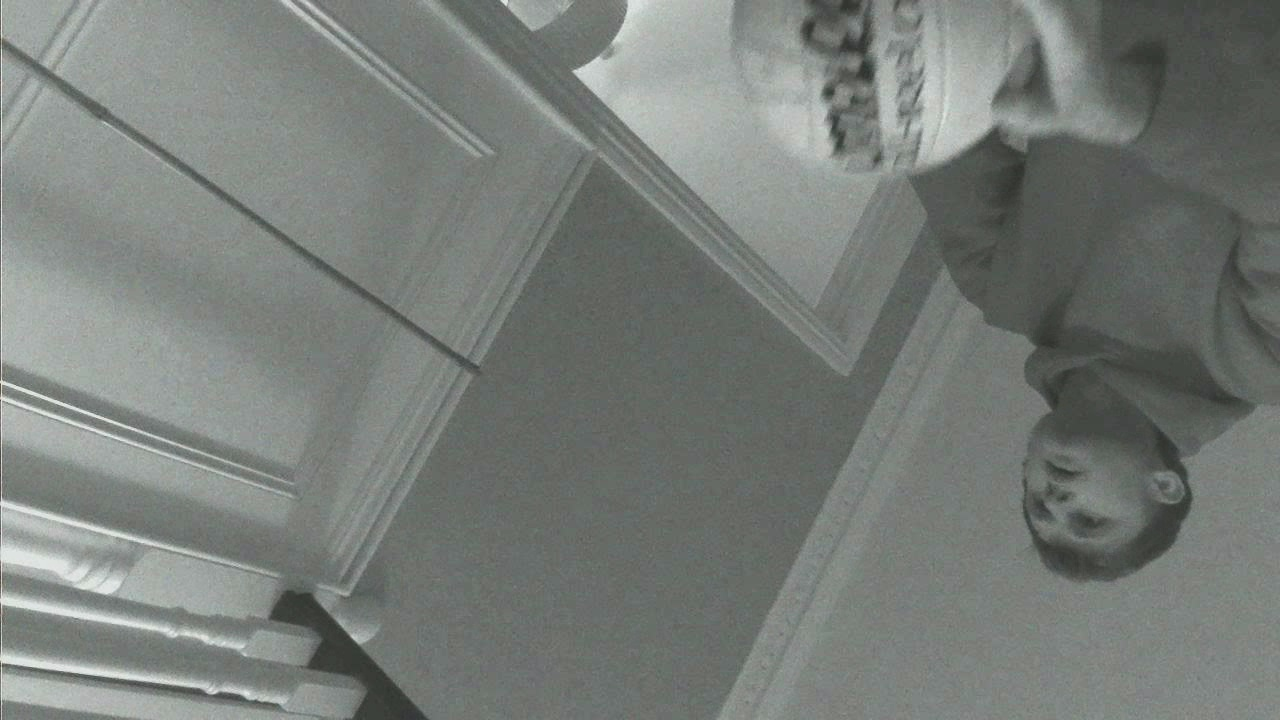Football-Spotter: (732, 0, 1031, 174)
